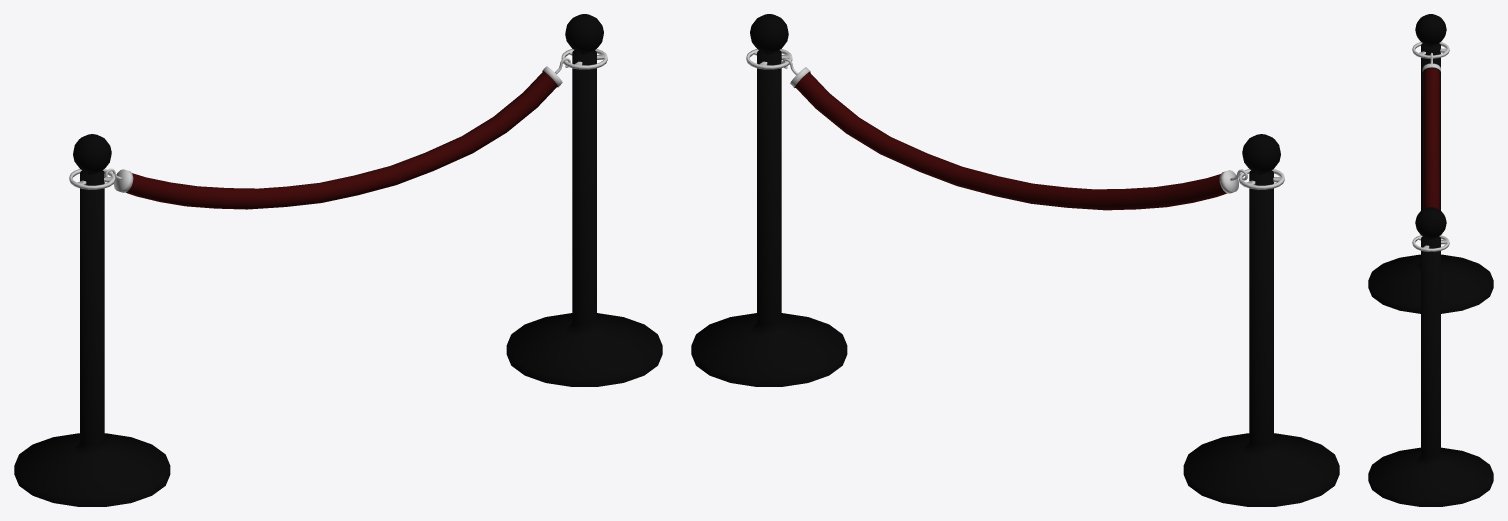
The model's file is barrier.obj.
3 renders of one model, left to right at view 1: azimuth 30°, elevation 25°; view 2: azimuth 150°, elevation 25°; view 3: azimuth 270°, elevation 25°, orthographic. The views are drawn at different scales.
Visible parts, largest first — view 1: B_Daily_R_Vr_N_RetractableBarrier_0001; view 2: B_Daily_R_Vr_N_RetractableBarrier_0001; view 3: B_Daily_R_Vr_N_RetractableBarrier_0001.
Boxes of the visible parts, bbox=[...] form: B_Daily_R_Vr_N_RetractableBarrier_0001: bbox=[14, 14, 662, 506]; B_Daily_R_Vr_N_RetractableBarrier_0001: bbox=[691, 14, 1339, 506]; B_Daily_R_Vr_N_RetractableBarrier_0001: bbox=[1368, 14, 1493, 506].
Size of the model in its own units: 5.27 by 2.72 by 1.14.
